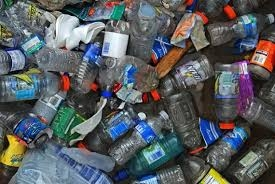plastic: (148, 46, 216, 104), (108, 104, 172, 163), (203, 7, 275, 48), (203, 117, 254, 172), (1, 70, 73, 108), (209, 59, 243, 128), (67, 39, 107, 93), (240, 22, 275, 83), (36, 46, 115, 73), (174, 152, 233, 184), (62, 146, 116, 172)
